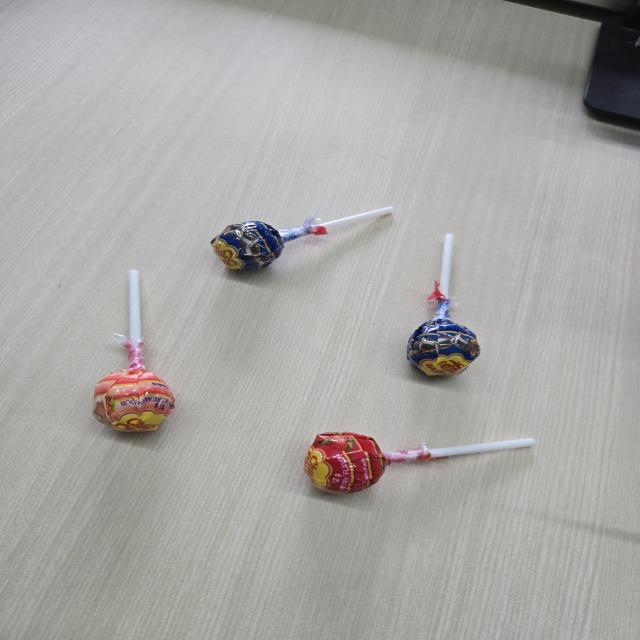lollipop: (301, 427, 538, 499), (208, 202, 400, 280), (92, 268, 176, 438), (409, 230, 481, 376)
